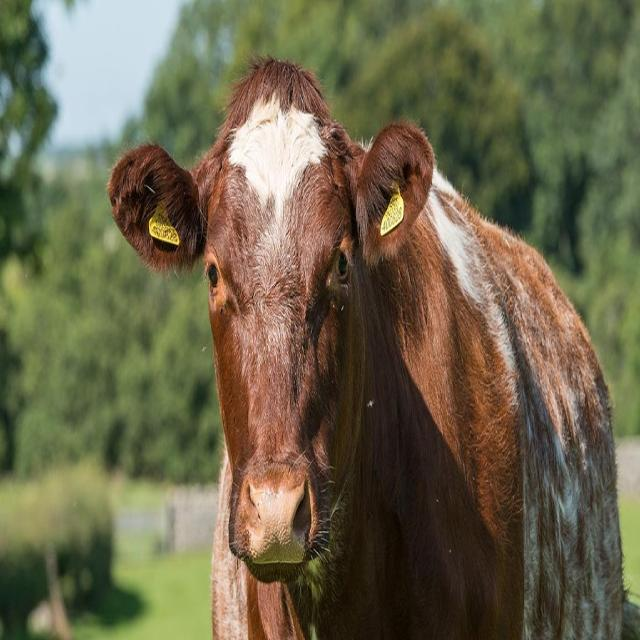cowFace: (107, 35, 443, 591)
